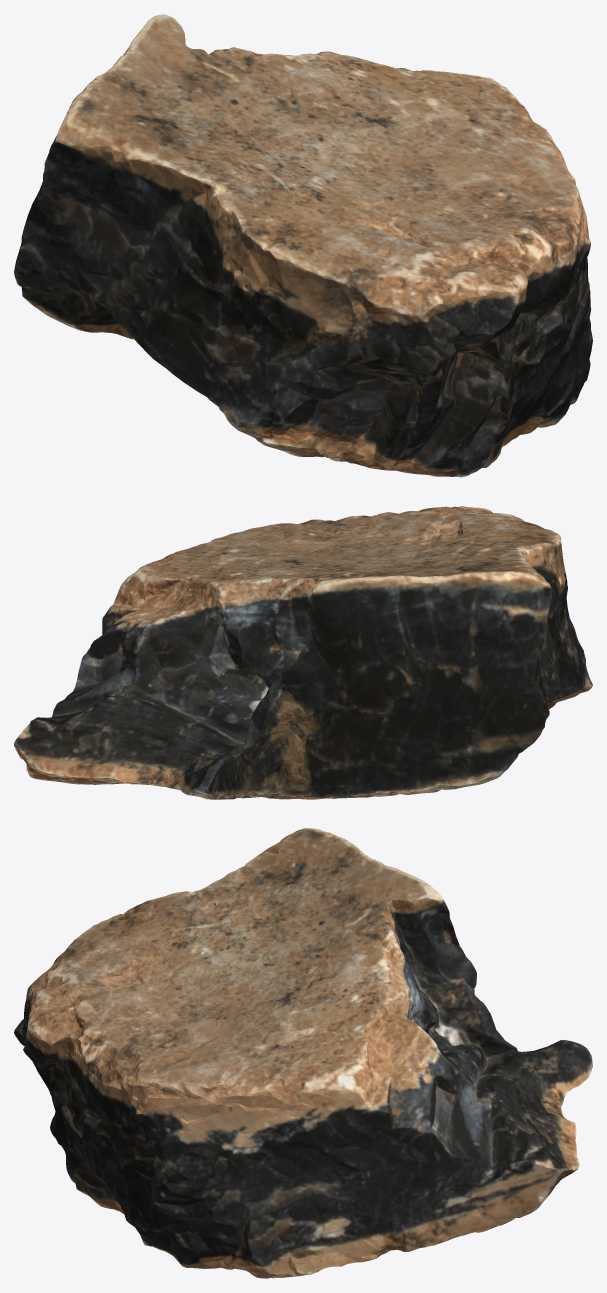
Rendered from flint-0373-lite.glb.
The picture shows the model from 3 angles, top to bottom: view 1: azimuth 30°, elevation 25°; view 2: azimuth 150°, elevation 25°; view 3: azimuth 270°, elevation 25°; orthographic projection. The views are drawn at different scales.
Parts seen in each view (by area): view 1: 0373_FLI_PL_low_poly; view 2: 0373_FLI_PL_low_poly; view 3: 0373_FLI_PL_low_poly.
Part boxes in pixels (box(x1,y1,x2,y2)): 0373_FLI_PL_low_poly: box(14, 14, 592, 477); 0373_FLI_PL_low_poly: box(14, 506, 592, 799); 0373_FLI_PL_low_poly: box(14, 828, 592, 1278).
Size of the model in its own units: 73.15 by 46.52 by 87.81.
1 material, 1 textured.
